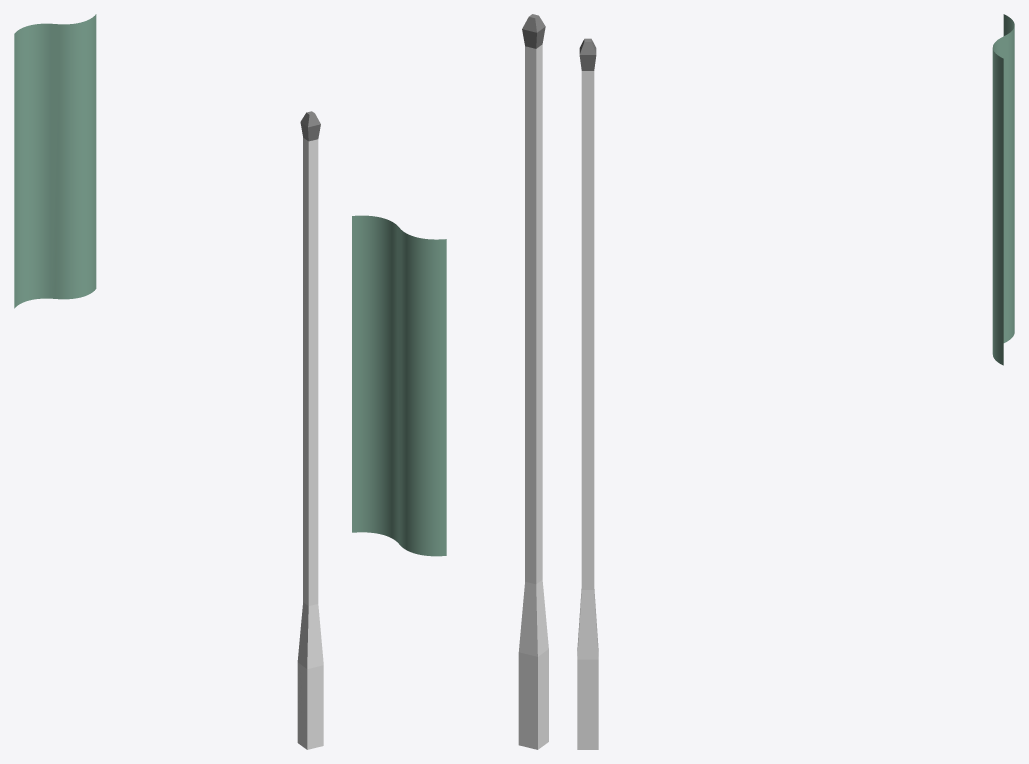
The model's file is flagGreen.glb.
The picture shows the model from 3 angles, left to right: view 1: azimuth 30°, elevation 25°; view 2: azimuth 150°, elevation 25°; view 3: azimuth 270°, elevation 25°; orthographic projection. The views are drawn at different scales.
Parts seen in each view (by area): view 1: flagGreen(Clone)-col, Group; view 2: flagGreen(Clone)-col, Group; view 3: Group, flagGreen(Clone)-col.
Part boxes in pixels (<box>): flagGreen(Clone)-col: <box>14,14,96,308</box>; Group: <box>297,111,323,749</box>; flagGreen(Clone)-col: <box>352,215,446,556</box>; Group: <box>518,14,548,749</box>; Group: <box>577,38,598,749</box>; flagGreen(Clone)-col: <box>992,14,1014,365</box>.
Size of the model in its own units: 0.2459 by 1.25 by 0.7028.
